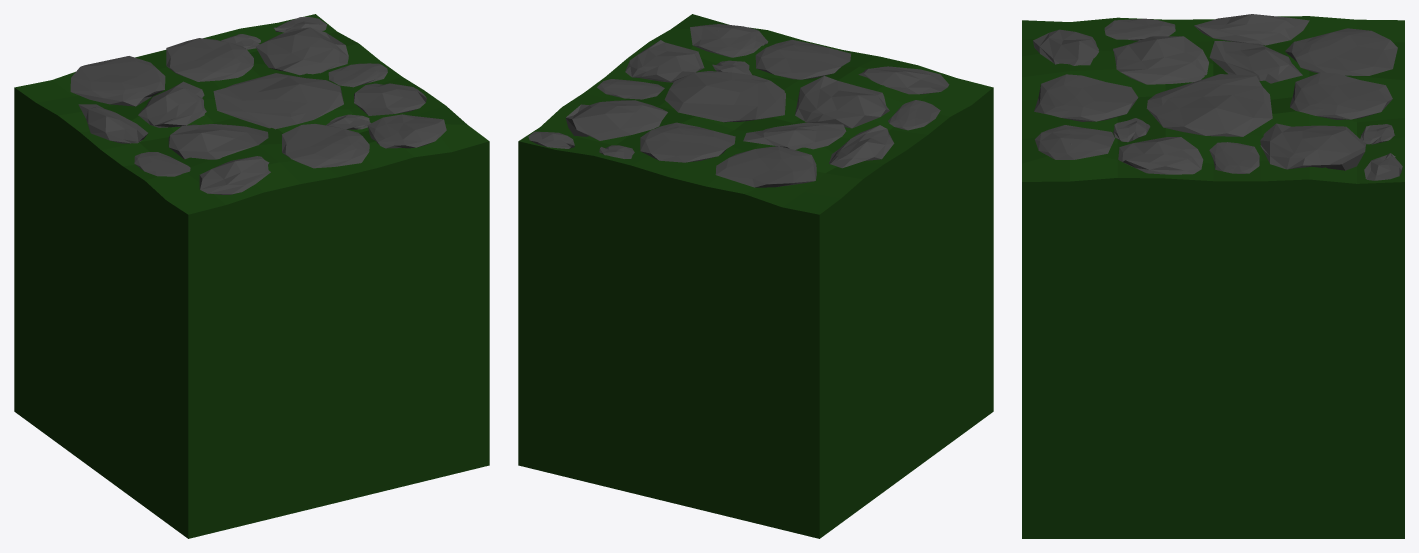
File: TileImport.fbx
3 renders of one model, left to right at view 1: azimuth 30°, elevation 25°; view 2: azimuth 150°, elevation 25°; view 3: azimuth 270°, elevation 25°, orthographic. The views are drawn at different scales.
Parts seen in each view (by area): view 1: Cube.017; view 2: Cube.017; view 3: Cube.017.
Part boxes in pixels (box(x1,y1,x2,y2)): Cube.017: box(14, 14, 489, 538); Cube.017: box(518, 14, 993, 538); Cube.017: box(1022, 14, 1404, 538).
Size of the model in its own units: 100 by 109 by 100.
